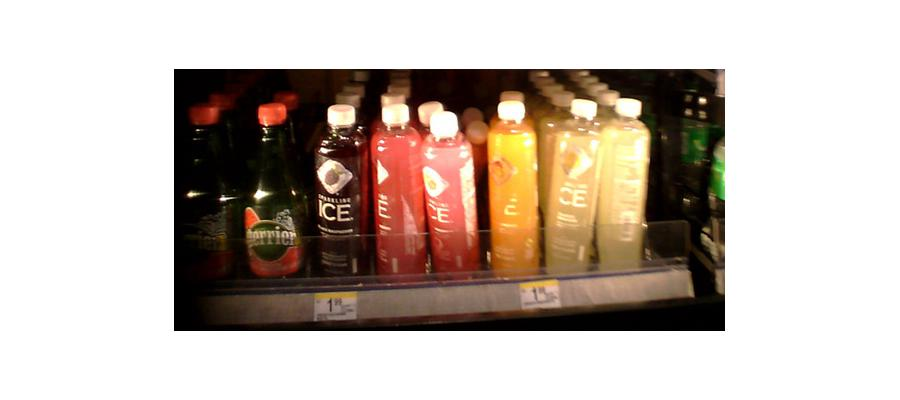bottle: (310, 100, 371, 281), (243, 106, 303, 281), (543, 99, 604, 271), (485, 99, 542, 277), (422, 111, 482, 271), (600, 94, 652, 268), (375, 101, 425, 275)
